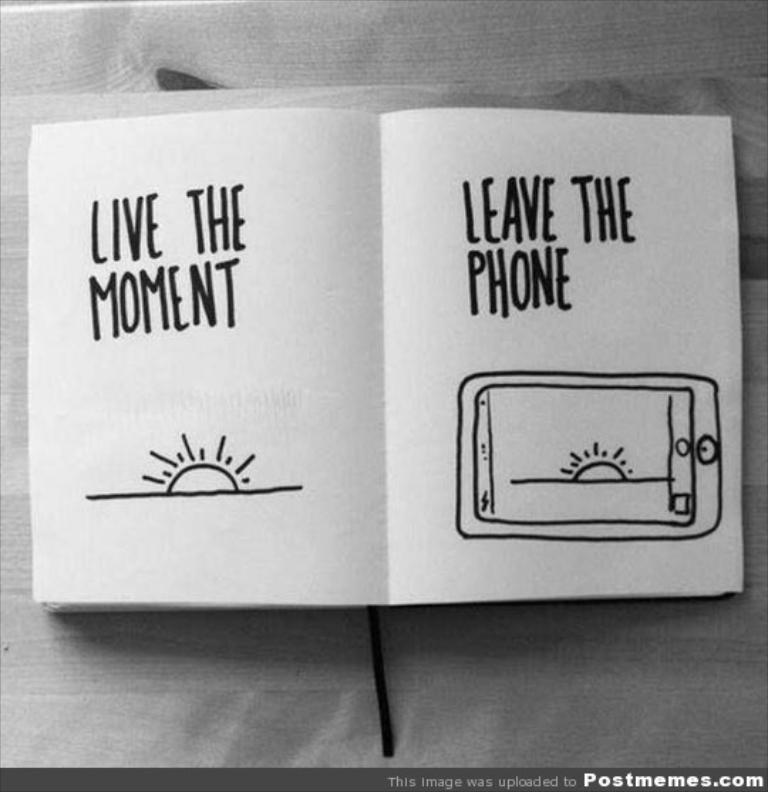book: (24, 107, 744, 616)
